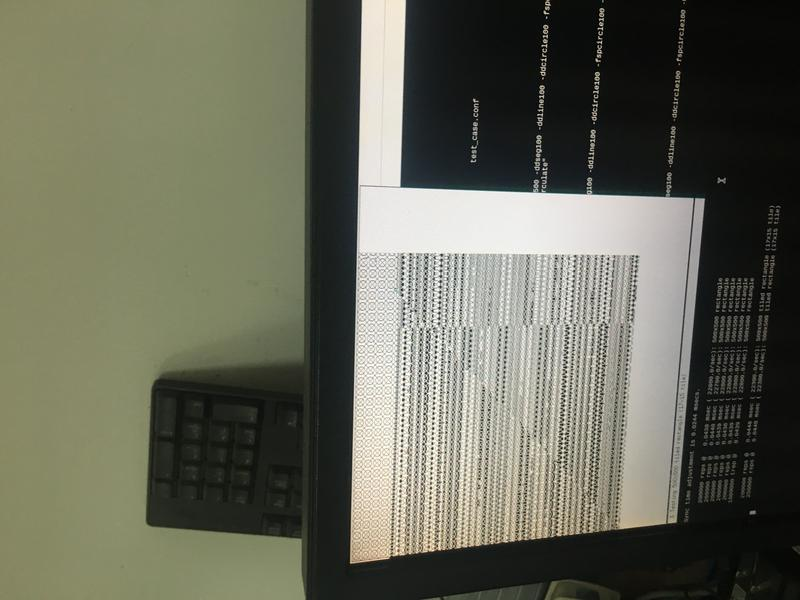xrandr_pass: (330, 171, 718, 566)
